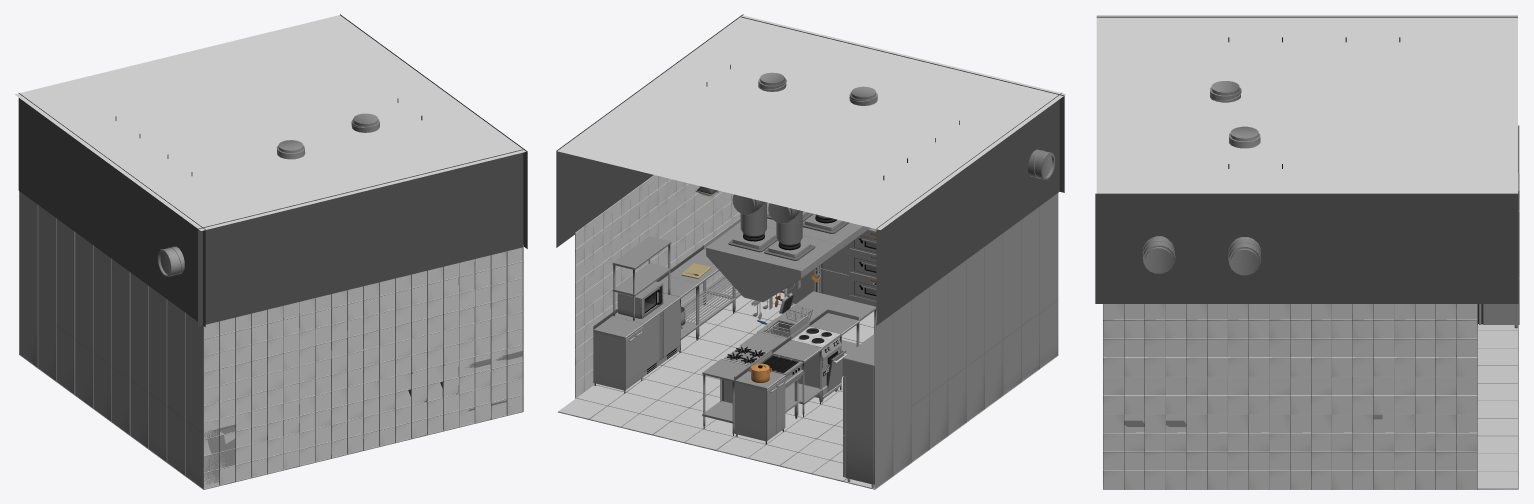
File: Commercial kitchen demo 1.fbx
3 views of the same model, side by side, from view 1: azimuth 30°, elevation 25°; view 2: azimuth 150°, elevation 25°; view 3: azimuth 270°, elevation 25° (orthographic). The views are drawn at different scales.
Visible parts, largest first — view 1: Plane.003, Wall tiled 50x250.002, Plane.002, Wall stainless steel panel 50x250.002, Wall tiled 50x250.001, Plane.001, Prep cabinet 100.002, Prep cabinet 50.001, Plane.004, Floor tiled 100x100.001, Vent pipe straight.018; view 2: Plane.003, Wall stainless steel panel 50x250.002, Floor tiled 100x100.001, Plane.001, Wall tiled 50x250.003, Plane.004, Fridge double tall.001, Prep cabinet 50.003, Extractor 100 A.004, Prep cabinet 50.002, Extractor 100 A.002, Top shelf 100.001 (+26 smaller); view 3: Plane.003, Wall tiled 50x250.003, Plane.004, Floor tiled 100x100.001, Vent pipe straight.013, Vent pipe straight.010, fridge door lower R.001, Plane.001, Vent pipe straight.003, Vent pipe straight.007.
Part boxes in pixels (bbox=[...]): Plane.003: bbox=[15, 15, 526, 230]; Wall tiled 50x250.002: bbox=[331, 247, 523, 457]; Plane.002: bbox=[198, 149, 523, 326]; Wall stainless steel panel 50x250.002: bbox=[19, 191, 203, 489]; Wall tiled 50x250.001: bbox=[203, 294, 331, 489]; Plane.001: bbox=[18, 93, 205, 326]; Prep cabinet 100.002: bbox=[167, 402, 236, 485]; Prep cabinet 50.001: bbox=[149, 389, 166, 458]; Plane.004: bbox=[340, 14, 527, 248]; Floor tiled 100x100.001: bbox=[20, 355, 522, 489]; Vent pipe straight.018: bbox=[157, 246, 184, 276]; Plane.003: bbox=[557, 15, 1065, 229]; Wall stainless steel panel 50x250.002: bbox=[874, 193, 1058, 489]; Floor tiled 100x100.001: bbox=[558, 286, 1057, 489]; Plane.001: bbox=[876, 93, 1061, 325]; Wall tiled 50x250.003: bbox=[575, 175, 740, 398]; Plane.004: bbox=[556, 14, 743, 247]; Fridge double tall.001: bbox=[842, 334, 874, 487]; Prep cabinet 50.003: bbox=[593, 312, 643, 393]; Extractor 100 A.004: bbox=[753, 235, 837, 302]; Prep cabinet 50.002: bbox=[734, 363, 785, 444]; Extractor 100 A.002: bbox=[706, 223, 777, 299]; Top shelf 100.001: bbox=[612, 236, 671, 320]; Plane.003: bbox=[1096, 15, 1517, 193]; Wall tiled 50x250.003: bbox=[1103, 304, 1477, 489]; Plane.004: bbox=[1095, 193, 1518, 303]; Floor tiled 100x100.001: bbox=[1477, 324, 1518, 489]; Vent pipe straight.013: bbox=[1228, 237, 1260, 275]; Vent pipe straight.010: bbox=[1142, 236, 1175, 273]; fridge door lower R.001: bbox=[1479, 277, 1519, 324]; Plane.001: bbox=[1096, 16, 1517, 17]; Vent pipe straight.003: bbox=[1229, 126, 1260, 148]; Vent pipe straight.007: bbox=[1210, 81, 1241, 102].
Bounding box in the file's own units: 5.58 × 5.1 × 4.05.
